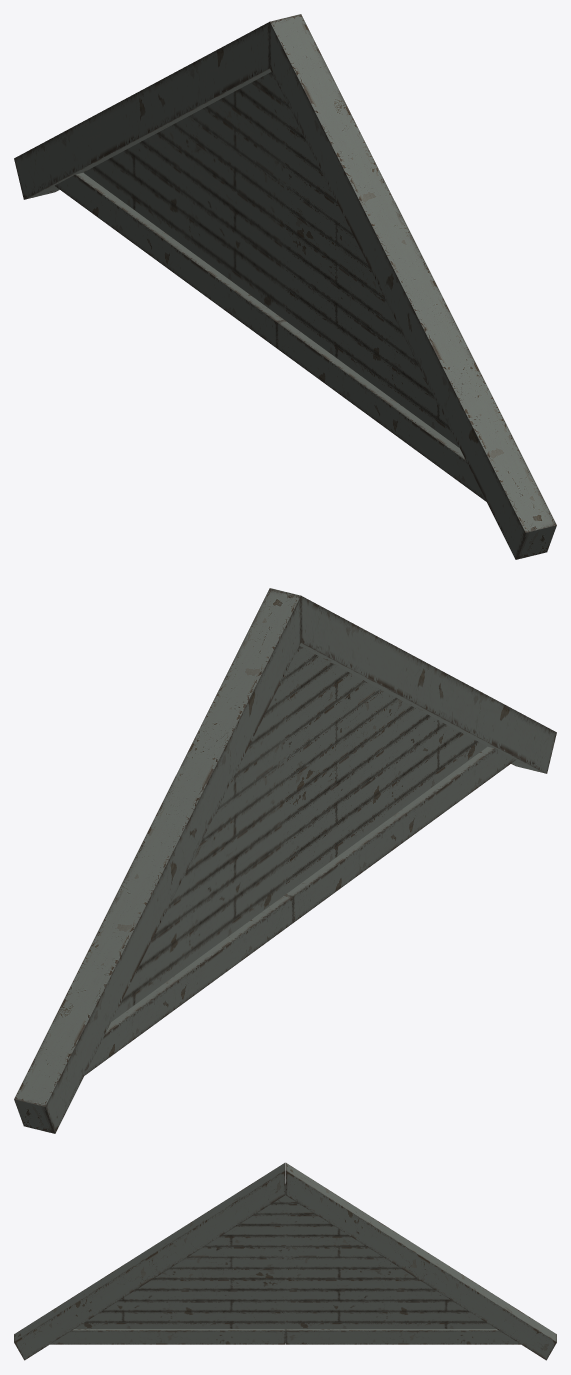
File: SM_Roof800End.FBX
The picture shows the model from 3 angles, top to bottom: view 1: azimuth 30°, elevation 25°; view 2: azimuth 150°, elevation 25°; view 3: azimuth 270°, elevation 25°; orthographic projection. The views are drawn at different scales.
Parts seen in each view (by area): view 1: SM_Roof800End; view 2: SM_Roof800End; view 3: SM_Roof800End.
Part boxes in pixels (x1=…): SM_Roof800End: x1=14, y1=14, x2=556, y2=559; SM_Roof800End: x1=14, y1=588, x2=556, y2=1133; SM_Roof800End: x1=14, y1=1162, x2=556, y2=1360.
Bounding box in the file's own units: 35.56 × 388 × 1004.
